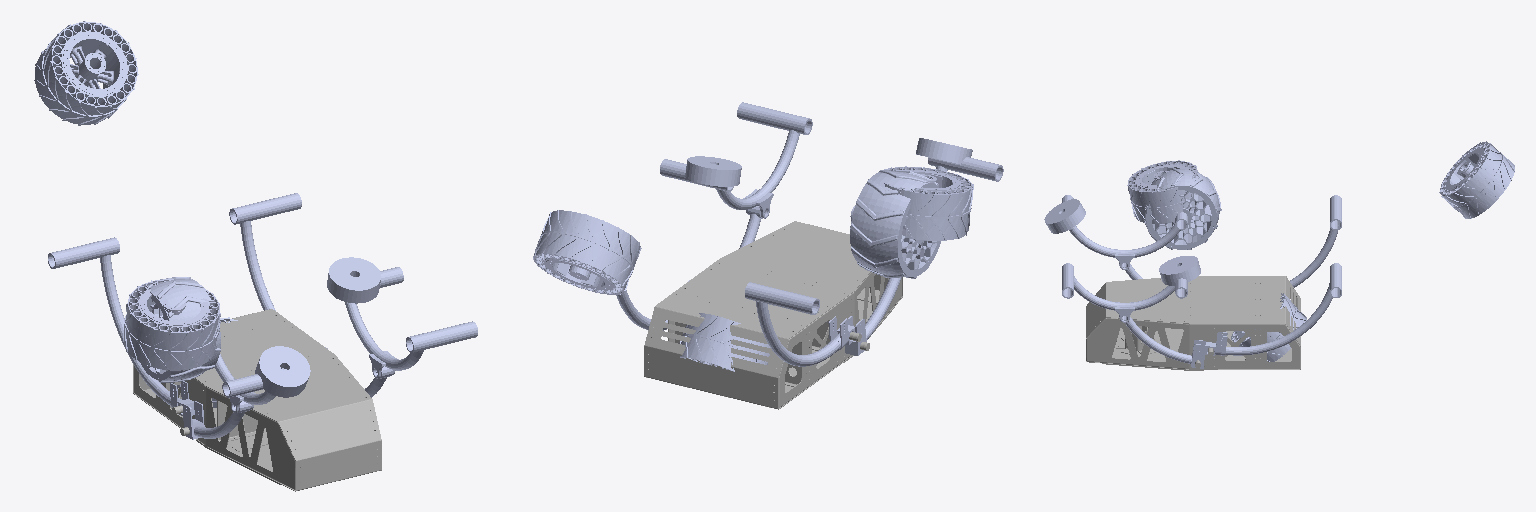
robot.urdf — drive:
<?xml version="1.0" encoding="utf-8"?>
<!-- This URDF was automatically created by SolidWorks to URDF Exporter! Originally created by [author] ([email redacted]) 
     Commit Version: 1.6.0-1-g15f4949  Build Version: 1.6.7594.29634
     For more information, please see http://wiki.ros.org/sw_urdf_exporter -->
<robot
  name="drive">
  <link
    name="base">
    <inertial>
      <origin
        xyz="-0.345788930637997 -0.153460943930369 -0.0148574304076997"
        rpy="0 0 0" />
      <mass
        value="34.1059688345868" />
      <inertia
        ixx="2.15746797612818"
        ixy="0.00470920534979304"
        ixz="-1.71459033522724E-06"
        iyy="0.759382756881473"
        iyz="0.00265969830513678"
        izz="2.53264735973746" />
    </inertial>
    <visual>
      <origin
        xyz="0 0 0"
        rpy="0 0 0" />
      <geometry>
        <mesh
          filename="package://drive/meshes/base.STL" />
      </geometry>
      <material
        name="">
        <color
          rgba="0.752941176470588 0.752941176470588 0.752941176470588 1" />
      </material>
    </visual>
    <collision>
      <origin
        xyz="0 0 0"
        rpy="0 0 0" />
      <geometry>
        <mesh
          filename="package://drive/meshes/base.STL" />
      </geometry>
    </collision>
  </link>
  <link
    name="right_front">
    <inertial>
      <origin
        xyz="-0.12375 -0.053132 0.0225"
        rpy="0 0 0" />
      <mass
        value="0.26897" />
      <inertia
        ixx="0.001013"
        ixy="-0.0017699"
        ixz="2.1696E-09"
        iyy="0.0042352"
        iyz="1.083E-09"
        izz="0.0051616" />
    </inertial>
    <visual>
      <origin
        xyz="0 0 0"
        rpy="0 0 0" />
      <geometry>
        <mesh
          filename="package://drive/meshes/right_front.STL" />
      </geometry>
      <material
        name="">
        <color
          rgba="0.79216 0.81961 0.93333 1" />
      </material>
    </visual>
    <collision>
      <origin
        xyz="0 0 0"
        rpy="0 0 0" />
      <geometry>
        <mesh
          filename="package://drive/meshes/right_front.STL" />
      </geometry>
    </collision>
  </link>
  <joint
    name="joint_right_front"
    type="revolute">
    <origin
      xyz="-0.070337 -0.15542 -0.062427"
      rpy="-1.5708 0.12123 1.5708" />
    <parent
      link="base" />
    <child
      link="right_front" />
    <axis
      xyz="0 0 1" />
    <limit
      lower="0"
      upper="0"
      effort="0"
      velocity="0" />
  </joint>
  <link
    name="right_bogie">
    <inertial>
      <origin
        xyz="-4.0066E-06 -0.13053 0.016329"
        rpy="0 0 0" />
      <mass
        value="0.59393" />
      <inertia
        ixx="0.0020082"
        ixy="2.9932E-07"
        ixz="-1.3098E-08"
        iyy="0.0053136"
        iyz="3.3927E-09"
        izz="0.0045241" />
    </inertial>
    <visual>
      <origin
        xyz="0 0 0"
        rpy="0 0 0" />
      <geometry>
        <mesh
          filename="package://drive/meshes/right_bogie.STL" />
      </geometry>
      <material
        name="">
        <color
          rgba="0.79216 0.81961 0.93333 1" />
      </material>
    </visual>
    <collision>
      <origin
        xyz="0 0 0"
        rpy="0 0 0" />
      <geometry>
        <mesh
          filename="package://drive/meshes/right_bogie.STL" />
      </geometry>
    </collision>
  </link>
  <joint
    name="joint_right_bogie"
    type="revolute">
    <origin
      xyz="-0.31109 -0.16078 0"
      rpy="-3.1416 0 3.0204" />
    <parent
      link="right_front" />
    <child
      link="right_bogie" />
    <axis
      xyz="0 0 1" />
    <limit
      lower="0"
      upper="0"
      effort="0"
      velocity="0" />
  </joint>
  <link
    name="wheel_1">
    <inertial>
      <origin
        xyz="-0.08218 0.0011573 0.007099"
        rpy="0 0 0" />
      <mass
        value="32.802" />
      <inertia
        ixx="0.60349"
        ixy="-0.0034113"
        ixz="-0.020925"
        iyy="0.36113"
        iyz="0.00029621"
        izz="0.3629" />
    </inertial>
    <visual>
      <origin
        xyz="0 0 0"
        rpy="0 0 0" />
      <geometry>
        <mesh
          filename="package://drive/meshes/wheel_1.STL" />
      </geometry>
      <material
        name="">
        <color
          rgba="0.79216 0.81961 0.93333 1" />
      </material>
    </visual>
    <collision>
      <origin
        xyz="0 0 0"
        rpy="0 0 0" />
      <geometry>
        <mesh
          filename="package://drive/meshes/wheel_1.STL" />
      </geometry>
    </collision>
  </link>
  <joint
    name="joint_wheel_1"
    type="revolute">
    <origin
      xyz="0.225 -0.18509 0"
      rpy="0.16161 1.4835 0.35684" />
    <parent
      link="right_bogie" />
    <child
      link="wheel_1" />
    <axis
      xyz="0.99619 -0.014024 -0.08602" />
    <limit
      lower="0"
      upper="0"
      effort="0"
      velocity="0" />
  </joint>
  <link
    name="wheel_2">
    <inertial>
      <origin
        xyz="-0.08218 0.0011573 0.007099"
        rpy="0 0 0" />
      <mass
        value="32.802" />
      <inertia
        ixx="0.60349"
        ixy="-0.0034113"
        ixz="-0.020925"
        iyy="0.36113"
        iyz="0.00029621"
        izz="0.3629" />
    </inertial>
    <visual>
      <origin
        xyz="0 0 0"
        rpy="0 0 0" />
      <geometry>
        <mesh
          filename="package://drive/meshes/wheel_2.STL" />
      </geometry>
      <material
        name="">
        <color
          rgba="0.79216 0.81961 0.93333 1" />
      </material>
    </visual>
    <collision>
      <origin
        xyz="0 0 0"
        rpy="0 0 0" />
      <geometry>
        <mesh
          filename="package://drive/meshes/wheel_2.STL" />
      </geometry>
    </collision>
  </link>
  <joint
    name="joint_wheel_2"
    type="revolute">
    <origin
      xyz="-0.225 -0.18509 0"
      rpy="0.16161 1.4835 0.42392" />
    <parent
      link="right_bogie" />
    <child
      link="wheel_2" />
    <axis
      xyz="0.99619 -0.014024 -0.08602" />
    <limit
      lower="0"
      upper="0"
      effort="0"
      velocity="0" />
  </joint>
  <link
    name="right_back">
    <inertial>
      <origin
        xyz="0.30742 -0.20016 0.070431"
        rpy="0 0 0" />
      <mass
        value="0.46295" />
      <inertia
        ixx="0.0037369"
        ixy="0.0028292"
        ixz="2.8411E-09"
        iyy="0.0040089"
        iyz="-4.7273E-09"
        izz="0.0063232" />
    </inertial>
    <visual>
      <origin
        xyz="0 0 0"
        rpy="0 0 0" />
      <geometry>
        <mesh
          filename="package://drive/meshes/right_back.STL" />
      </geometry>
      <material
        name="">
        <color
          rgba="0.79216 0.81961 0.93333 1" />
      </material>
    </visual>
    <collision>
      <origin
        xyz="0 0 0"
        rpy="0 0 0" />
      <geometry>
        <mesh
          filename="package://drive/meshes/right_back.STL" />
      </geometry>
    </collision>
  </link>
  <joint
    name="joint_right_back"
    type="revolute">
    <origin
      xyz="0 -0.10542 -0.012427"
      rpy="-1.5708 0.12123 1.5708" />
    <parent
      link="base" />
    <child
      link="right_back" />
    <axis
      xyz="0 0 1" />
    <limit
      lower="0"
      upper="0"
      effort="0"
      velocity="0" />
  </joint>
  <link
    name="wheel_3">
    <inertial>
      <origin
        xyz="-0.0096197 0.00013586 0.00083348"
        rpy="0 0 0" />
      <mass
        value="32.802" />
      <inertia
        ixx="0.60349"
        ixy="-0.0034113"
        ixz="-0.020925"
        iyy="0.36113"
        iyz="0.0002962"
        izz="0.3629" />
    </inertial>
    <visual>
      <origin
        xyz="0 0 0"
        rpy="0 0 0" />
      <geometry>
        <mesh
          filename="package://drive/meshes/wheel_3.STL" />
      </geometry>
      <material
        name="">
        <color
          rgba="0.79216 0.81961 0.93333 1" />
      </material>
    </visual>
    <collision>
      <origin
        xyz="0 0 0"
        rpy="0 0 0" />
      <geometry>
        <mesh
          filename="package://drive/meshes/wheel_3.STL" />
      </geometry>
    </collision>
  </link>
  <joint
    name="joint_wheel_3"
    type="revolute">
    <origin
      xyz="0.45337 -0.39 0"
      rpy="-2.98 -1.4835 2.1495" />
    <parent
      link="right_back" />
    <child
      link="wheel_3" />
    <axis
      xyz="0.99619 -0.014024 -0.08602" />
    <limit
      lower="0"
      upper="0"
      effort="0"
      velocity="0" />
  </joint>
  <link
    name="left_front">
    <inertial>
      <origin
        xyz="-0.12375 -0.053132 0.0225"
        rpy="0 0 0" />
      <mass
        value="0.26897" />
      <inertia
        ixx="0.001013"
        ixy="-0.0017699"
        ixz="2.1696E-09"
        iyy="0.0042352"
        iyz="1.083E-09"
        izz="0.0051616" />
    </inertial>
    <visual>
      <origin
        xyz="0 0 0"
        rpy="0 0 0" />
      <geometry>
        <mesh
          filename="package://drive/meshes/left_front.STL" />
      </geometry>
      <material
        name="">
        <color
          rgba="0.79216 0.81961 0.93333 1" />
      </material>
    </visual>
    <collision>
      <origin
        xyz="0 0 0"
        rpy="0 0 0" />
      <geometry>
        <mesh
          filename="package://drive/meshes/left_front.STL" />
      </geometry>
    </collision>
  </link>
  <joint
    name="joint_left_front"
    type="revolute">
    <origin
      xyz="-0.56534 -0.15578 -0.062427"
      rpy="-1.5708 0.12123 1.5708" />
    <parent
      link="base" />
    <child
      link="left_front" />
    <axis
      xyz="0 0 1" />
    <limit
      lower="0"
      upper="0"
      effort="0"
      velocity="0" />
  </joint>
  <link
    name="left_bogie">
    <inertial>
      <origin
        xyz="-4.009E-06 -0.13053 0.061329"
        rpy="0 0 0" />
      <mass
        value="0.59393" />
      <inertia
        ixx="0.0020082"
        ixy="2.9938E-07"
        ixz="-1.3098E-08"
        iyy="0.0053136"
        iyz="3.3927E-09"
        izz="0.0045241" />
    </inertial>
    <visual>
      <origin
        xyz="0 0 0"
        rpy="0 0 0" />
      <geometry>
        <mesh
          filename="package://drive/meshes/left_bogie.STL" />
      </geometry>
      <material
        name="">
        <color
          rgba="0.79216 0.81961 0.93333 1" />
      </material>
    </visual>
    <collision>
      <origin
        xyz="0 0 0"
        rpy="0 0 0" />
      <geometry>
        <mesh
          filename="package://drive/meshes/left_bogie.STL" />
      </geometry>
    </collision>
  </link>
  <joint
    name="joint_left_bogie"
    type="revolute">
    <origin
      xyz="-0.31109 -0.16078 0"
      rpy="0 0 -0.12123" />
    <parent
      link="left_front" />
    <child
      link="left_bogie" />
    <axis
      xyz="0 0 1" />
    <limit
      lower="0"
      upper="0"
      effort="0"
      velocity="0" />
  </joint>
  <link
    name="wheel_4">
    <inertial>
      <origin
        xyz="-0.1102 0.0015518 0.0095182"
        rpy="0 0 0" />
      <mass
        value="32.802" />
      <inertia
        ixx="0.60349"
        ixy="-0.0034113"
        ixz="-0.020925"
        iyy="0.36113"
        iyz="0.0002962"
        izz="0.3629" />
    </inertial>
    <visual>
      <origin
        xyz="0 0 0"
        rpy="0 0 0" />
      <geometry>
        <mesh
          filename="package://drive/meshes/wheel_4.STL" />
      </geometry>
      <material
        name="">
        <color
          rgba="0.79216 0.81961 0.93333 1" />
      </material>
    </visual>
    <collision>
      <origin
        xyz="0 0 0"
        rpy="0 0 0" />
      <geometry>
        <mesh
          filename="package://drive/meshes/wheel_4.STL" />
      </geometry>
    </collision>
  </link>
  <joint
    name="joint_wheel_4"
    type="revolute">
    <origin
      xyz="-0.225 -0.18509 0.016876"
      rpy="0.16161 1.4835 -0.33202" />
    <parent
      link="left_bogie" />
    <child
      link="wheel_4" />
    <axis
      xyz="0.99619 -0.014024 -0.08602" />
    <limit
      lower="0"
      upper="0"
      effort="0"
      velocity="0" />
  </joint>
  <link
    name="wheel_5">
    <inertial>
      <origin
        xyz="-0.1102 0.0015518 0.0095182"
        rpy="0 0 0" />
      <mass
        value="32.802" />
      <inertia
        ixx="0.60349"
        ixy="-0.0034113"
        ixz="-0.020925"
        iyy="0.36113"
        iyz="0.00029621"
        izz="0.3629" />
    </inertial>
    <visual>
      <origin
        xyz="0 0 0"
        rpy="0 0 0" />
      <geometry>
        <mesh
          filename="package://drive/meshes/wheel_5.STL" />
      </geometry>
      <material
        name="">
        <color
          rgba="0.79216 0.81961 0.93333 1" />
      </material>
    </visual>
    <collision>
      <origin
        xyz="0 0 0"
        rpy="0 0 0" />
      <geometry>
        <mesh
          filename="package://drive/meshes/wheel_5.STL" />
      </geometry>
    </collision>
  </link>
  <joint
    name="joint_wheel_5"
    type="revolute">
    <origin
      xyz="0.225 -0.18509 0.016876"
      rpy="0.16161 1.4835 -1.252" />
    <parent
      link="left_bogie" />
    <child
      link="wheel_5" />
    <axis
      xyz="0.99619 -0.014024 -0.08602" />
    <limit
      lower="0"
      upper="0"
      effort="0"
      velocity="0" />
  </joint>
  <link
    name="left_back">
    <inertial>
      <origin
        xyz="0.307417610449746 -0.200159784838589 0.0649065740190656"
        rpy="0 0 0" />
      <mass
        value="0.462954112817127" />
      <inertia
        ixx="0.00373689017269687"
        ixy="0.00282920501842546"
        ixz="2.84105774800552E-09"
        iyy="0.00400887791416429"
        iyz="-4.72732351366836E-09"
        izz="0.00632322267910215" />
    </inertial>
    <visual>
      <origin
        xyz="0 0 0"
        rpy="0 0 0" />
      <geometry>
        <mesh
          filename="package://drive/meshes/left_back.STL" />
      </geometry>
      <material
        name="">
        <color
          rgba="0.792156862745098 0.819607843137255 0.933333333333333 1" />
      </material>
    </visual>
    <collision>
      <origin
        xyz="0 0 0"
        rpy="0 0 0" />
      <geometry>
        <mesh
          filename="package://drive/meshes/left_back.STL" />
      </geometry>
    </collision>
  </link>
  <joint
    name="joint_left_back"
    type="revolute">
    <origin
      xyz="-0.54534 -0.10578 -0.012427"
      rpy="-1.5708 0.12123 1.5708" />
    <parent
      link="base" />
    <child
      link="left_back" />
    <axis
      xyz="0 0 1" />
    <limit
      lower="0"
      upper="0"
      effort="0"
      velocity="0" />
  </joint>
  <link
    name="wheel_6">
    <inertial>
      <origin
        xyz="-0.110196647547582 0.0015517611086607 0.00951816460722743"
        rpy="0 0 0" />
      <mass
        value="32.8019150211691" />
      <inertia
        ixx="0.603492451808882"
        ixy="-0.0034112585032357"
        ixz="-0.0209247366705797"
        iyy="0.361131034411668"
        iyz="0.000296199081101525"
        izz="0.362901341391592" />
    </inertial>
    <visual>
      <origin
        xyz="0 0 0"
        rpy="0 0 0" />
      <geometry>
        <mesh
          filename="package://drive/meshes/wheel_6.STL" />
      </geometry>
      <material
        name="">
        <color
          rgba="0.792156862745098 0.819607843137255 0.933333333333333 1" />
      </material>
    </visual>
    <collision>
      <origin
        xyz="0 0 0"
        rpy="0 0 0" />
      <geometry>
        <mesh
          filename="package://drive/meshes/wheel_6.STL" />
      </geometry>
    </collision>
  </link>
  <joint
    name="joint_wheel_6"
    type="revolute">
    <origin
      xyz="0.45337 -0.39 0.034376"
      rpy="0.16161 1.4835 -0.74019" />
    <parent
      link="left_back" />
    <child
      link="wheel_6" />
    <axis
      xyz="0.99619 -0.014024 -0.08602" />
    <limit
      lower="0"
      upper="0"
      effort="0"
      velocity="0" />
  </joint>
</robot>

--- Facts derived from the render (not from the file) ---
3 views of the same robot in one strip: view 1: azimuth 30°, elevation 25°; view 2: azimuth 150°, elevation 25°; view 3: azimuth 270°, elevation 25° (orthographic).
Robot: drive — 13 links, 12 joints (12 revolute); root link base; default pose: all joints at 0.
Links seen in each view (by area): view 1: base, wheel_6, wheel_1, left_back, right_bogie, wheel_5, right_back, wheel_4, wheel_2, left_bogie, left_front; view 2: base, wheel_6, wheel_5, wheel_1, right_bogie, left_back, wheel_3, wheel_2, left_front, left_bogie, wheel_4, right_back; view 3: base, wheel_6, wheel_5, wheel_1, right_back, right_bogie, left_bogie, left_back, right_front, wheel_4, wheel_3, wheel_2.
Boxes of the visible links, <box> form: base: <box>133,309,381,491</box>; wheel_6: <box>34,21,138,125</box>; wheel_1: <box>123,279,220,370</box>; left_back: <box>48,237,194,415</box>; right_bogie: <box>335,267,477,378</box>; wheel_5: <box>140,277,220,382</box>; right_back: <box>229,193,327,348</box>; wheel_4: <box>255,346,310,397</box>; wheel_2: <box>327,257,380,303</box>; left_bogie: <box>215,321,286,412</box>; left_front: <box>183,401,251,439</box>; base: <box>644,221,902,409</box>; wheel_6: <box>533,210,641,294</box>; wheel_5: <box>850,170,940,278</box>; wheel_1: <box>884,166,973,240</box>; right_bogie: <box>660,102,812,218</box>; left_back: <box>745,282,855,366</box>; wheel_3: <box>679,313,769,371</box>; wheel_2: <box>685,156,741,186</box>; left_front: <box>845,277,901,355</box>; left_bogie: <box>850,157,1003,219</box>; wheel_4: <box>916,138,972,164</box>; right_back: <box>616,280,689,330</box>; base: <box>1086,276,1300,370</box>; wheel_6: <box>1439,141,1514,218</box>; wheel_5: <box>1143,168,1221,249</box>; wheel_1: <box>1127,160,1198,223</box>; right_back: <box>1205,263,1341,355</box>; right_bogie: <box>1062,263,1187,322</box>; left_bogie: <box>1062,195,1187,269</box>; left_back: <box>1290,195,1341,287</box>; right_front: <box>1119,316,1205,368</box>; wheel_4: <box>1044,199,1085,233</box>; wheel_3: <box>1231,293,1306,361</box>; wheel_2: <box>1159,256,1200,285</box>.
Size in the robot's own frame: 0.9751 by 1.86 by 0.9524 metres.
13 mesh visuals loaded from 13 distinct referenced files (13 binary STL).